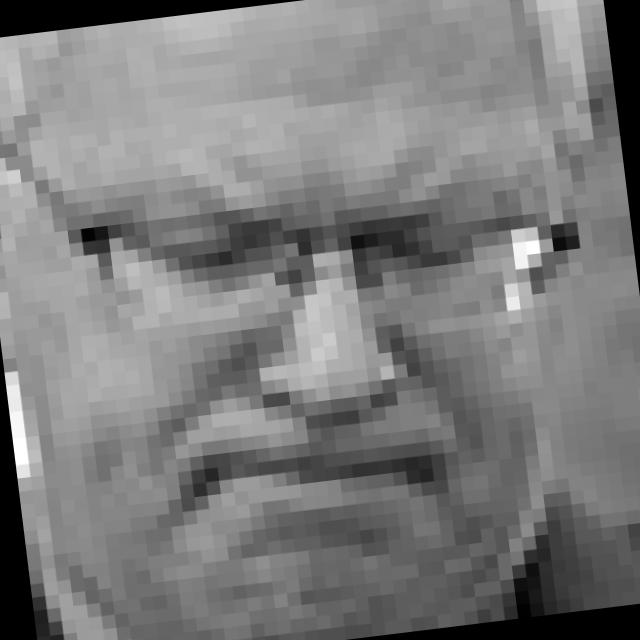sad: (70, 104, 560, 604)
